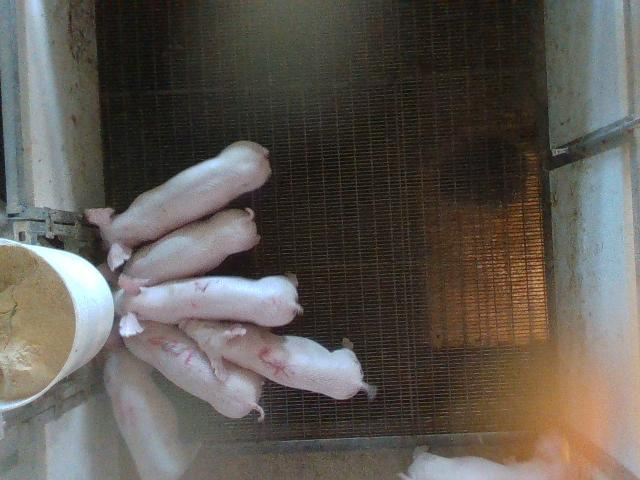pig-3: (124, 321, 264, 419)
pig-4: (104, 348, 199, 478)
pig-5: (179, 319, 376, 399)
